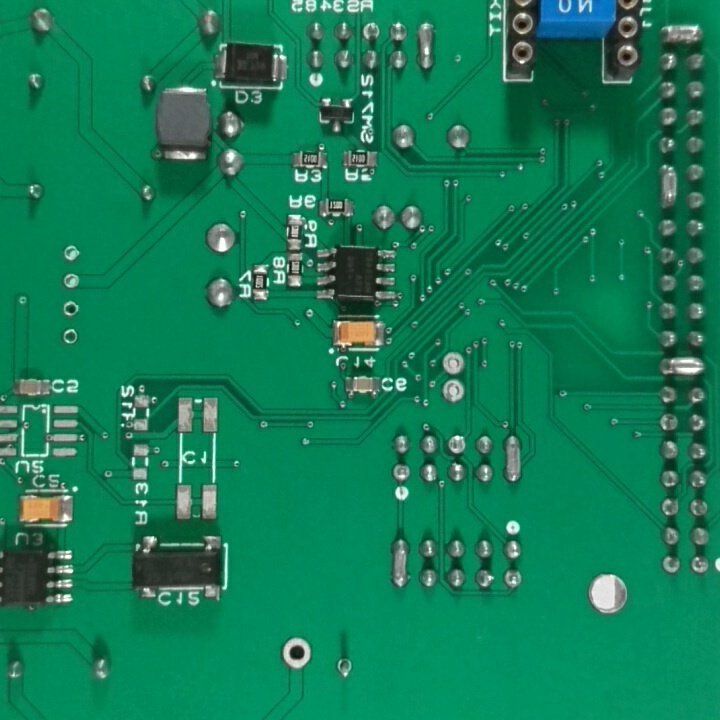F: (278, 631, 316, 672), (439, 378, 470, 411), (441, 346, 473, 376), (657, 410, 684, 437), (332, 655, 356, 685), (501, 564, 524, 595), (59, 321, 81, 352), (445, 430, 467, 458), (60, 270, 84, 294), (689, 495, 712, 519), (391, 461, 413, 486), (690, 554, 711, 580), (60, 242, 82, 266), (360, 19, 381, 44), (59, 299, 83, 320)
P: (661, 350, 713, 382), (656, 20, 712, 48), (386, 531, 410, 592), (414, 18, 439, 76), (655, 160, 679, 215), (503, 431, 525, 489)
